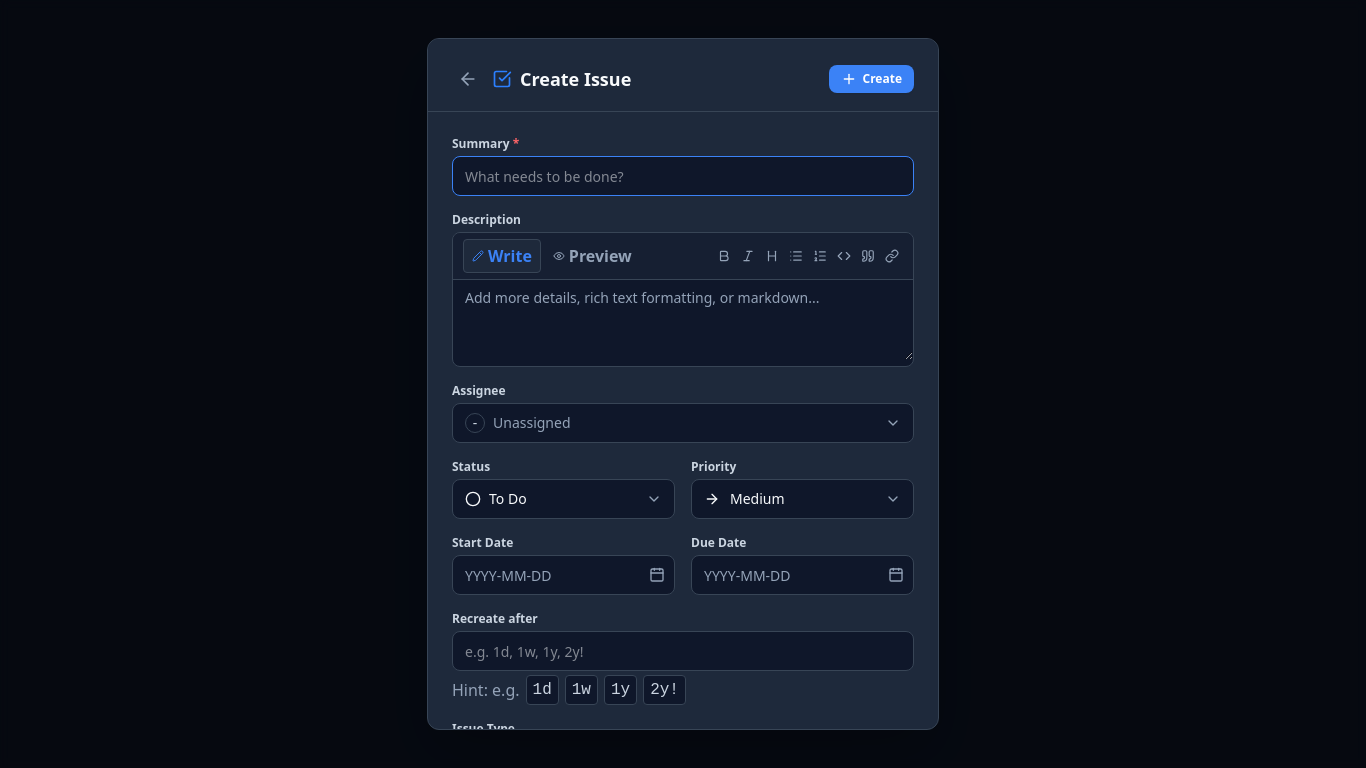
Scenario: CreateIssueModal component › allows clicking recreate after hint buttons to populate input
The image size is (1366, 768).
Click the button titled "Set recreate after to 1w". click: {"x": 581, "y": 690}
box: [565, 675, 598, 705]
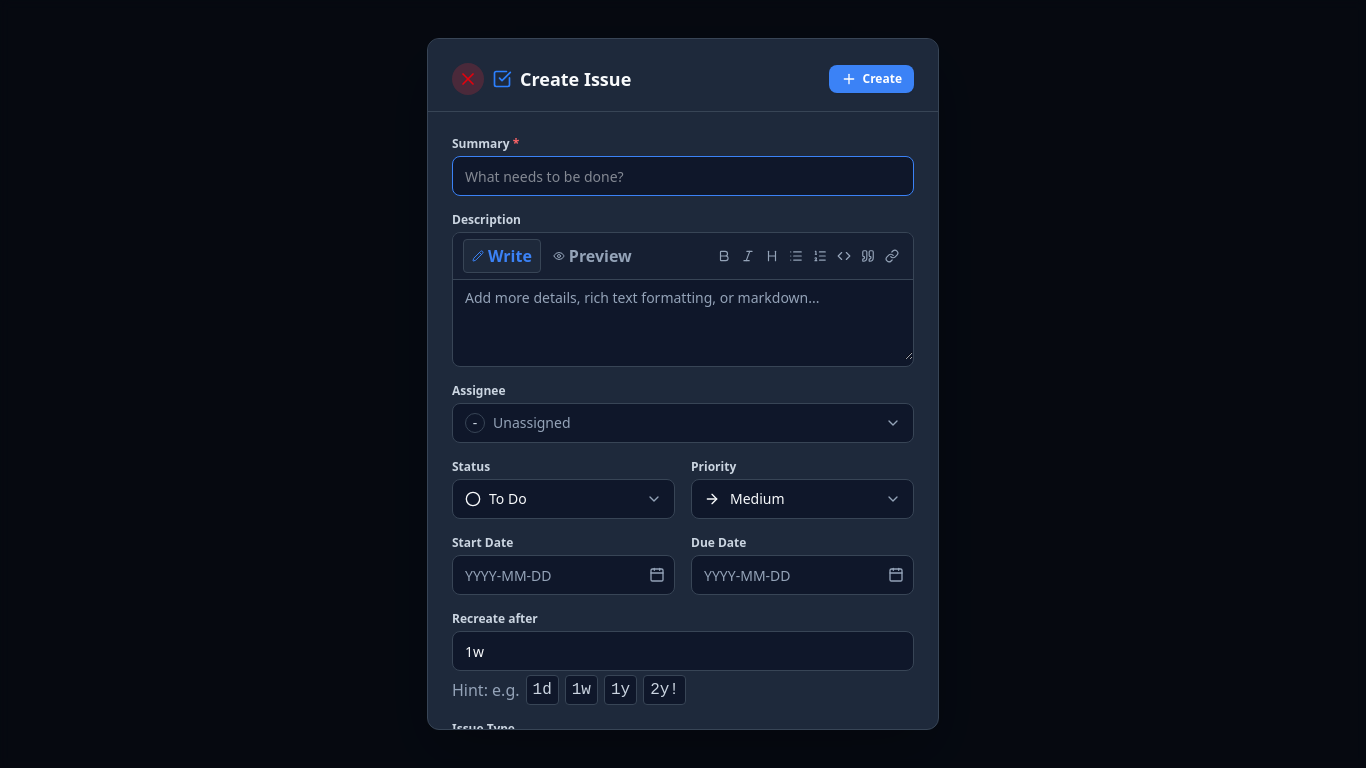
Now the field with id "create-recreate-after" holds "1w", box [452, 631, 914, 671]
